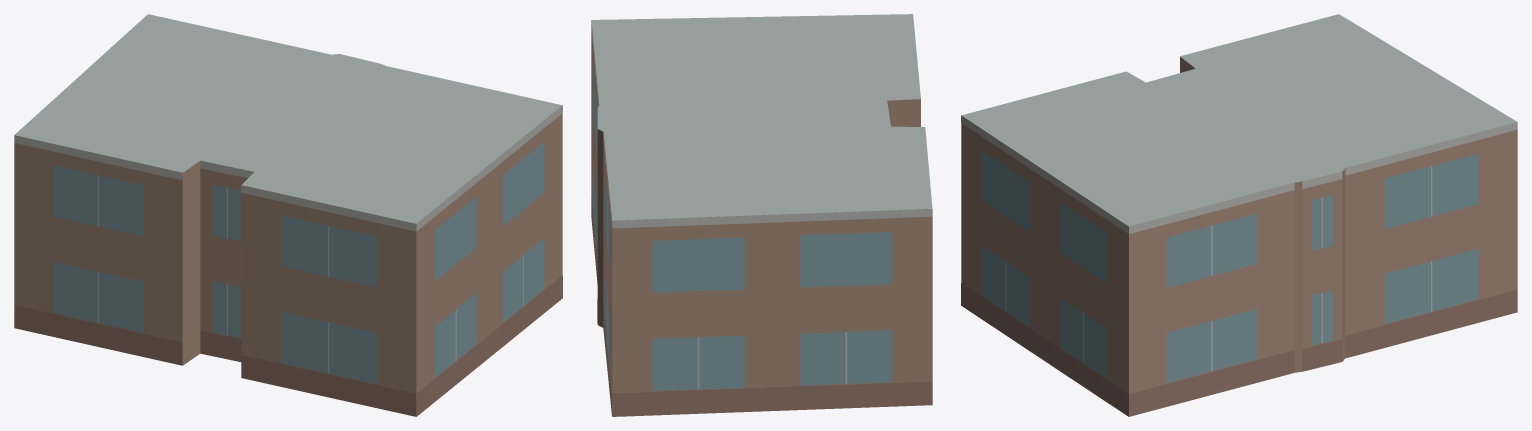
Rendered from survey-upis-32624905.glb.
The picture shows the model from 3 angles, left to right: view 1: azimuth 30°, elevation 25°; view 2: azimuth 150°, elevation 25°; view 3: azimuth 270°, elevation 25°; orthographic projection. The views are drawn at different scales.
Visible parts, largest first — view 1: survey-upis-32624905.tmp; view 2: survey-upis-32624905.tmp; view 3: survey-upis-32624905.tmp.
Part boxes in pixels (left/top/right/bottom): survey-upis-32624905.tmp: left=14, top=14, right=562, bottom=416; survey-upis-32624905.tmp: left=591, top=14, right=932, bottom=416; survey-upis-32624905.tmp: left=961, top=14, right=1517, bottom=416.
Size of the model in its own units: 14.63 by 6.1 by 16.18.
